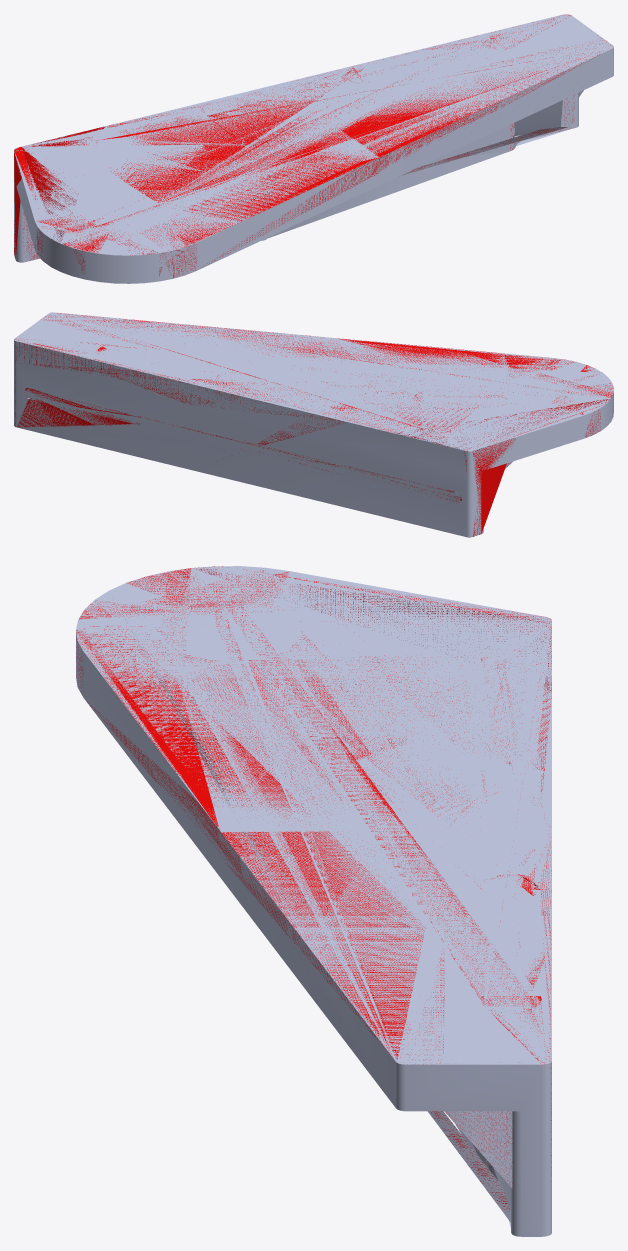
Rendered from L_foot_link.dae.
3 renders of one model, top to bottom at view 1: azimuth 30°, elevation 25°; view 2: azimuth 150°, elevation 25°; view 3: azimuth 270°, elevation 25°, orthographic. The views are drawn at different scales.
Parts seen in each view (by area): view 1: node1, node0, node2; view 2: node0, node1, node2; view 3: node1, node0, node2.
Part boxes in pixels (x1,y1,x2,y2): node1: (14, 14, 613, 277); node0: (14, 14, 613, 283); node2: (14, 15, 610, 277); node0: (14, 312, 613, 537); node1: (14, 313, 613, 533); node2: (14, 313, 613, 536); node1: (76, 566, 551, 1236); node0: (76, 566, 551, 1236); node2: (76, 566, 551, 1211).
Size of the model in its own units: 0.115 by 0.0185 by 0.0464.
